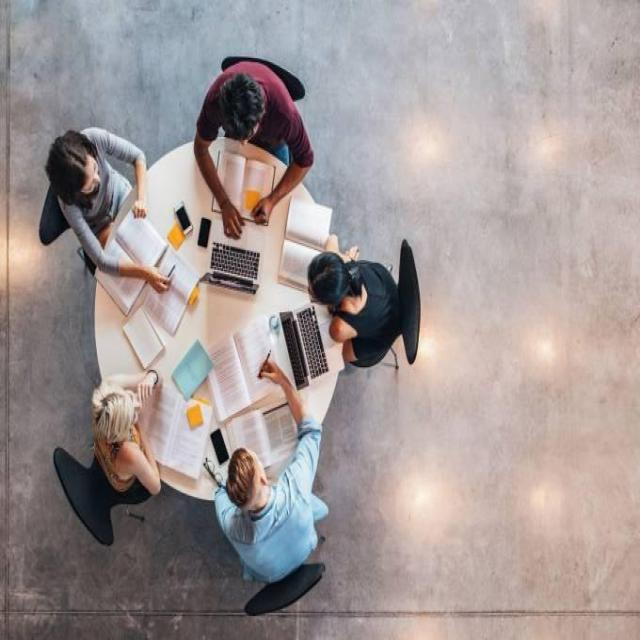person: (34, 80, 169, 318), (195, 388, 336, 602), (171, 42, 317, 222), (67, 355, 189, 520), (291, 227, 428, 373)
